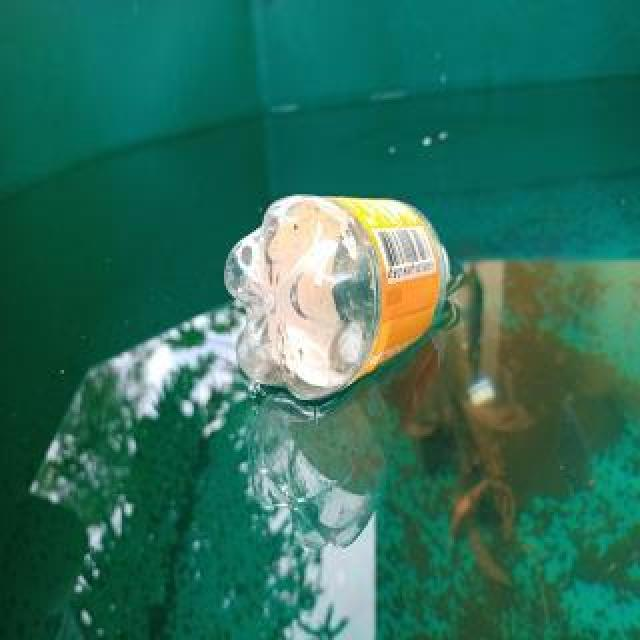bottle: (224, 190, 450, 406)
